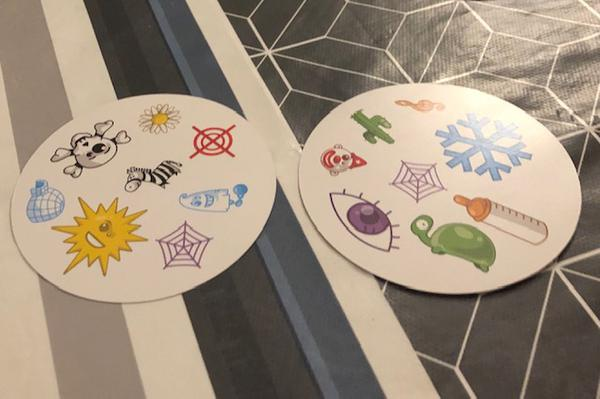biberon: (442, 189, 543, 249)
cactus: (347, 107, 397, 146)
cible: (183, 120, 242, 162)
clown: (316, 140, 370, 178)
fantome: (174, 176, 252, 217)
fleur: (134, 103, 184, 136)
flocon: (432, 110, 535, 185)
igloo: (23, 175, 67, 225)
note: (391, 96, 448, 115)
oeuil: (315, 183, 406, 261)
soleil: (48, 190, 155, 278)
tete_mort: (50, 117, 131, 180)
toile: (150, 216, 219, 275), (387, 157, 448, 204)
tortue: (410, 205, 506, 275)
zebre: (117, 154, 191, 194)
